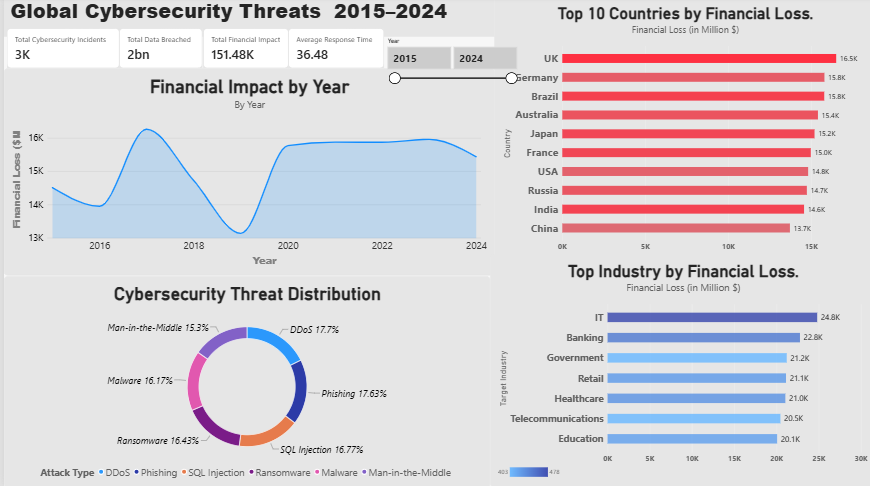

Layout of this report page (visuals, bound fields, positions):
{"tool":"powerbi","page":{"name":"Page 6","canvas":[1920,1080],"ordinal":5},"visuals":[{"type":"textbox","box":[0,0,1080.6,87.9],"z":0},{"type":"lineChart","title":"Financial Impact by Year","fields":{"Category":["Global_Cybersecurity_Threats_2015-2024.Year"],"Y":["Global_Cybersecurity_Threats_2015-2024.Total Financial Impact"]},"box":[0,157.3,1080.6,455.8],"z":1000},{"type":"barChart","title":"Top 10 Countries by Financial Loss.","fields":{"Category":["Global_Cybersecurity_Threats_2015-2024.Country"],"Y":["Global_Cybersecurity_Threats_2015-2024.Total Financial Impact"]},"box":[1080.6,0,839.9,613.2],"z":2000},{"type":"barChart","title":"Top Industry by Financial Loss.","fields":{"Category":["Global_Cybersecurity_Threats_2015-2024.Target Industry"],"Y":["Global_Cybersecurity_Threats_2015-2024.Total Financial Impact"]},"box":[1071.3,566.9,849.2,513.7],"z":3000},{"type":"donutChart","title":"Cybersecurity Threat Distribution","fields":{"Category":["Global_Cybersecurity_Threats_2015-2024.Attack Type"],"Series":["Global_Cybersecurity_Threats_2015-2024.Attack Type"],"Y":["CountNonNull(Global_Cybersecurity_Threats_2015-2024.Attack Type)"]},"box":[0,614.5,1071.2,466.1],"z":4000},{"type":"slicer","fields":{"Values":["Global_Cybersecurity_Threats_2015-2024.Year"]},"box":[837.6,87.9,297,140.3],"z":5000},{"type":"cardVisual","fields":{"Data":["Global_Cybersecurity_Threats_2015-2024.Total Cybersecurity Incidents"]},"box":[6.9,69.4,247.6,87.9],"z":6000},{"type":"cardVisual","fields":{"Data":["Global_Cybersecurity_Threats_2015-2024.Total Data Breached"]},"box":[254.5,69.4,182.8,87.9],"z":7000},{"type":"cardVisual","fields":{"Data":["Global_Cybersecurity_Threats_2015-2024.Total Financial Impact"]},"box":[439.6,69.4,187.4,87.9],"z":8000},{"type":"cardVisual","fields":{"Data":["Global_Cybersecurity_Threats_2015-2024.Average Response Time"]},"box":[627.1,69.4,210.6,87.9],"z":9000}]}

Visuals, with their boxes in screenshot pixels (x1, y1, x2, y2), scaled from the page's 1920x1080 canvas onto the 870x486 screenshot:
textbox: x1=0 y1=0 x2=490 y2=40
"Financial Impact by Year" lineChart: x1=0 y1=71 x2=490 y2=276
"Top 10 Countries by Financial Loss." barChart: x1=490 y1=0 x2=869 y2=276
"Top Industry by Financial Loss." barChart: x1=485 y1=255 x2=869 y2=485
"Cybersecurity Threat Distribution" donutChart: x1=0 y1=277 x2=485 y2=485
slicer - Global_Cybersecurity_Threats_2015-2024.Year: x1=380 y1=40 x2=514 y2=103
cardVisual - Global_Cybersecurity_Threats_2015-2024.Total Cybersecurity Incidents: x1=3 y1=31 x2=115 y2=71
cardVisual - Global_Cybersecurity_Threats_2015-2024.Total Data Breached: x1=115 y1=31 x2=198 y2=71
cardVisual - Global_Cybersecurity_Threats_2015-2024.Total Financial Impact: x1=199 y1=31 x2=284 y2=71
cardVisual - Global_Cybersecurity_Threats_2015-2024.Average Response Time: x1=284 y1=31 x2=380 y2=71
